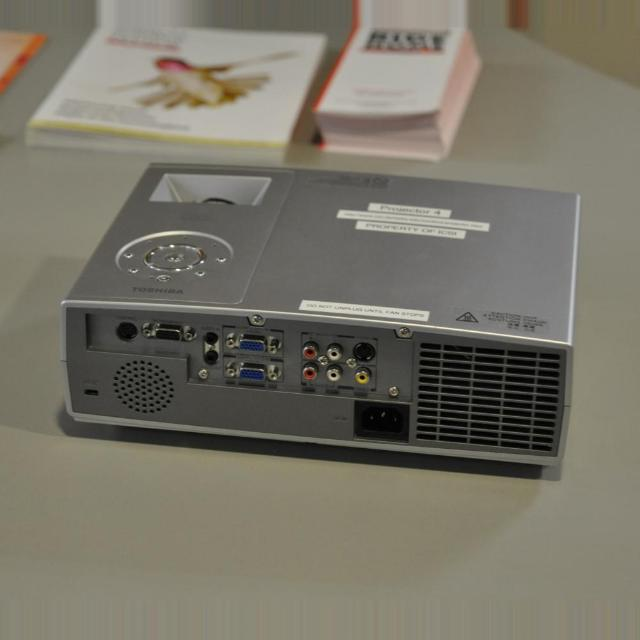Projector: (58, 161, 582, 467)
